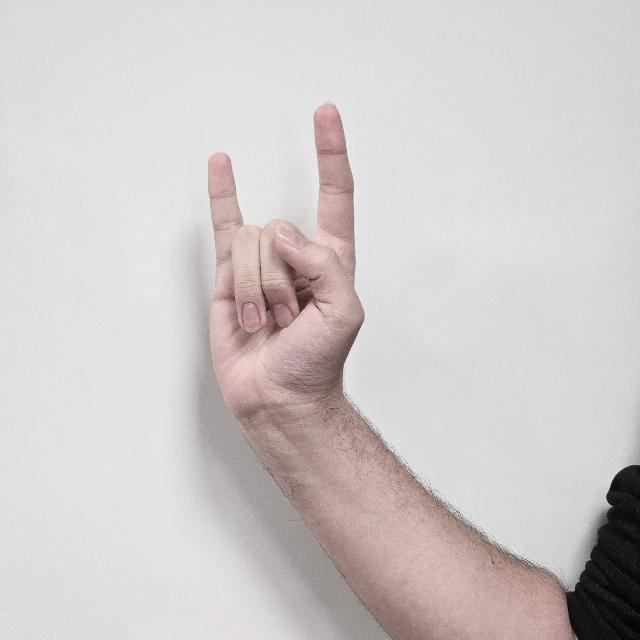L: (202, 102, 366, 414)
